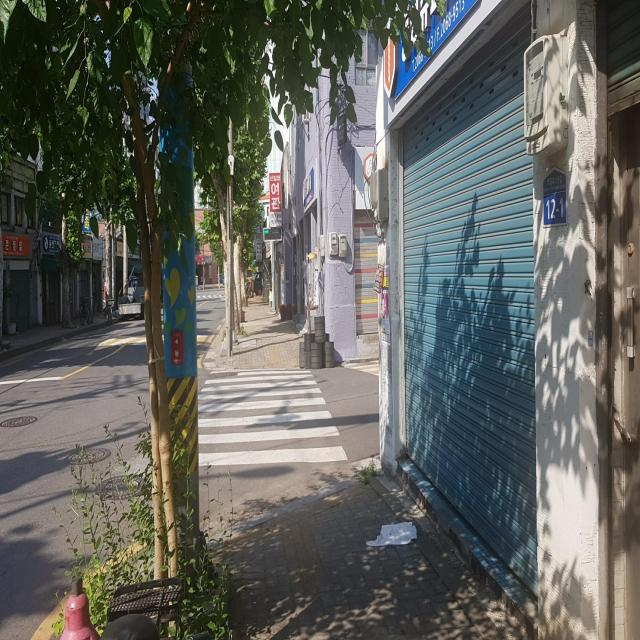횡단보도: (197, 368, 348, 468), (196, 290, 226, 300)
